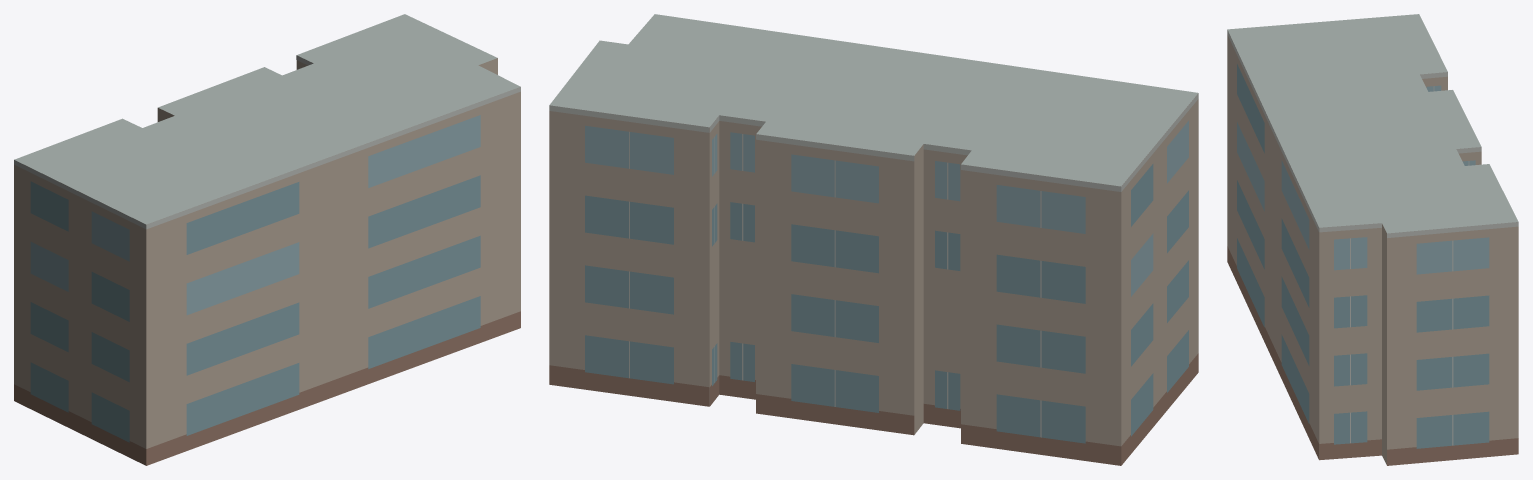
Rendered from survey-upis-32743918.glb.
3 renders of one model, left to right at view 1: azimuth 30°, elevation 25°; view 2: azimuth 150°, elevation 25°; view 3: azimuth 270°, elevation 25°, orthographic. The views are drawn at different scales.
Parts seen in each view (by area): view 1: survey-upis-32743918.tmp; view 2: survey-upis-32743918.tmp; view 3: survey-upis-32743918.tmp.
Boxes of the visible parts, <box> form: survey-upis-32743918.tmp: <box>14,14,520,465</box>; survey-upis-32743918.tmp: <box>549,14,1198,465</box>; survey-upis-32743918.tmp: <box>1227,14,1518,465</box>.
Size of the model in its own units: 24.72 by 12.2 by 13.87.
